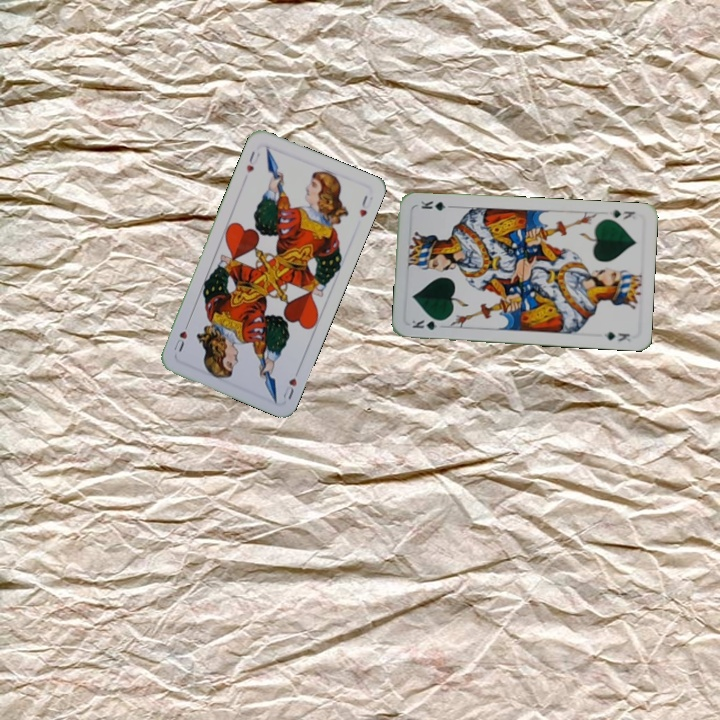GK: (408, 316, 447, 332), (606, 206, 637, 222)
HU: (279, 364, 303, 403), (242, 146, 263, 175)
